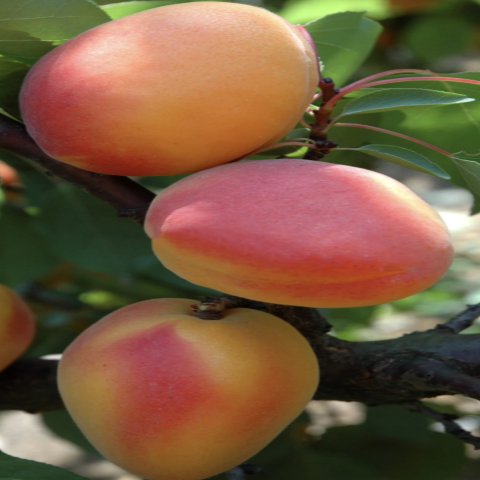mango: (1, 2, 339, 180), (36, 279, 340, 470), (141, 142, 455, 320)
